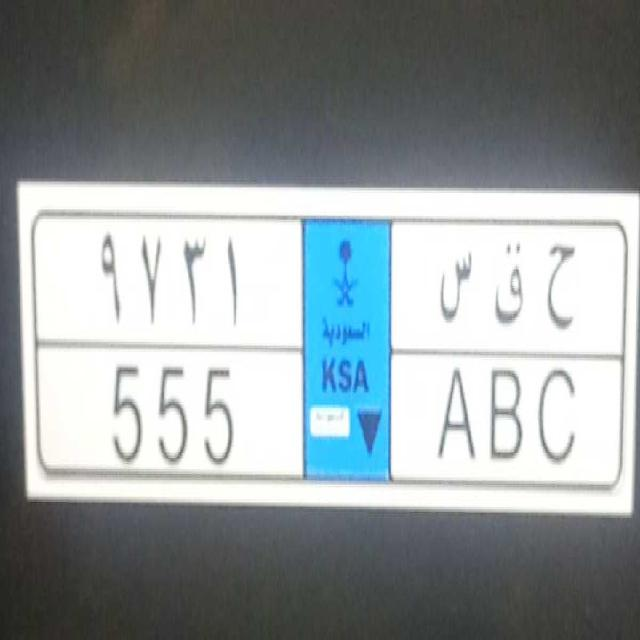license_plate: (61, 336, 607, 495)
